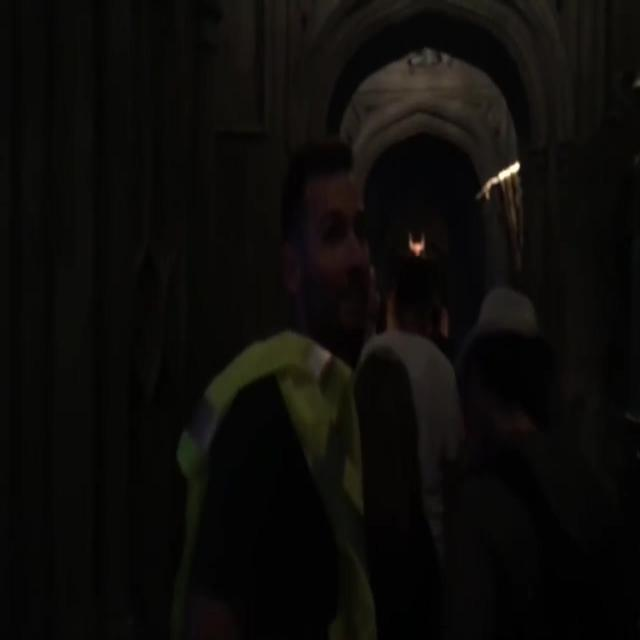Reflective-Jacket: (157, 317, 377, 639)
